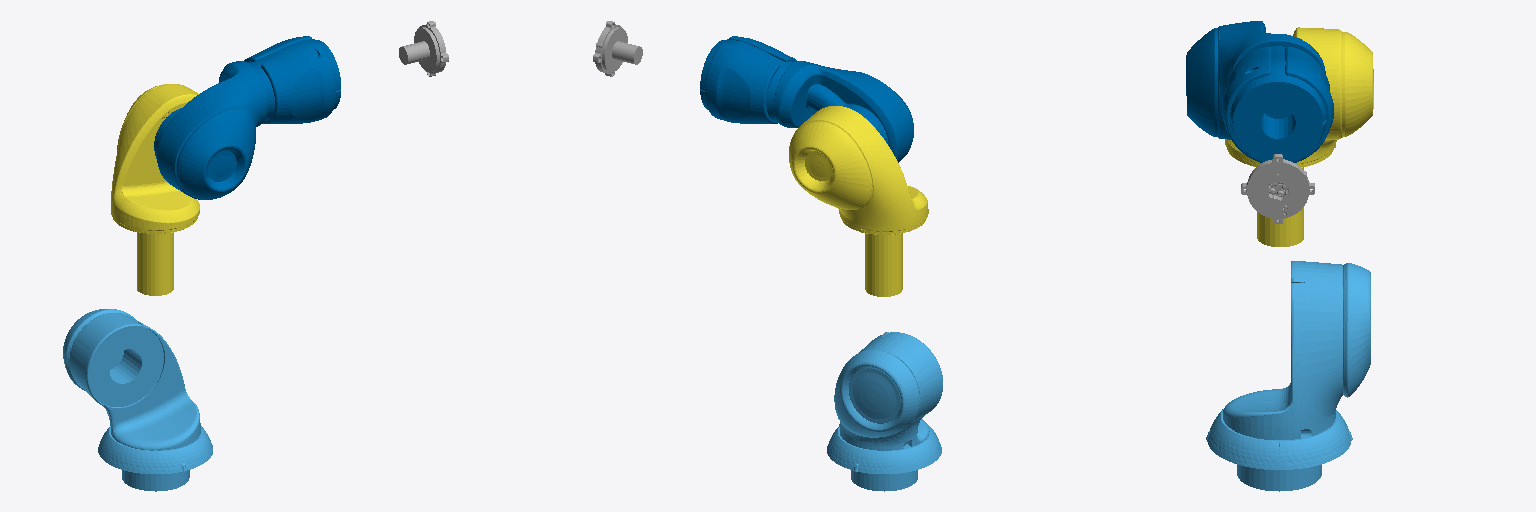
The robot description file, URDF, robot "IRB14050_SAYuMi_-_rev00":
<?xml version="1.0" ?>
<robot name="IRB14050_SAYuMi_-_rev00">

<link name="base_link">
  <inertial>
    <origin xyz="0.0067341529602538705 -4.242075529018596e-06 0.09331995585045105" rpy="0 0 0"/>
    <mass value="32.22380951244625"/>
    <inertia ixx="0.151725" iyy="0.164755" izz="0.108527" ixy="2.1e-05" iyz="-4e-06" ixz="0.00565"/>
  </inertial>
  <visual>
    <origin xyz="0 0 0" rpy="0 0 0"/>
    <geometry>
      <mesh filename="package://IRB14050_SAYuMi_-_rev00_description/meshes/base_link.stl" scale="0.001 0.001 0.001"/>
    </geometry>
    <material name="silver"/>
  </visual>
  <collision>
    <origin xyz="0 0 0" rpy="0 0 0"/>
    <geometry>
      <mesh filename="package://IRB14050_SAYuMi_-_rev00_description/meshes/base_link.stl" scale="0.001 0.001 0.001"/>
    </geometry>
  </collision>
</link>

<link name="Link1_R_1">
  <inertial>
    <origin xyz="-0.010302908951592258 0.02260577276044838 0.08311471108287838" rpy="0 0 0"/>
    <mass value="7.562885567589252"/>
    <inertia ixx="0.024135" iyy="0.023842" izz="0.013038" ixy="0.001983" iyz="-0.00674" ixz="0.004166"/>
  </inertial>
  <visual>
    <origin xyz="-0.0 0.0 -0.173832" rpy="0 0 0"/>
    <geometry>
      <mesh filename="package://IRB14050_SAYuMi_-_rev00_description/meshes/Link1_R_1.stl" scale="0.001 0.001 0.001"/>
    </geometry>
    <material name="silver"/>
  </visual>
  <collision>
    <origin xyz="-0.0 0.0 -0.173832" rpy="0 0 0"/>
    <geometry>
      <mesh filename="package://IRB14050_SAYuMi_-_rev00_description/meshes/Link1_R_1.stl" scale="0.001 0.001 0.001"/>
    </geometry>
  </collision>
</link>

<link name="Link2_R_1">
  <inertial>
    <origin xyz="0.0178623453666928 -0.025608675859911195 0.06427941959136324" rpy="0 0 0"/>
    <mass value="11.070792495652707"/>
    <inertia ixx="0.055419" iyy="0.054878" izz="0.017919" ixy="-0.001753" iyz="-0.009074" ixz="-0.008688"/>
  </inertial>
  <visual>
    <origin xyz="0.03 -0.012 -0.305832" rpy="0 0 0"/>
    <geometry>
      <mesh filename="package://IRB14050_SAYuMi_-_rev00_description/meshes/Link2_R_1.stl" scale="0.001 0.001 0.001"/>
    </geometry>
    <material name="silver"/>
  </visual>
  <collision>
    <origin xyz="0.03 -0.012 -0.305832" rpy="0 0 0"/>
    <geometry>
      <mesh filename="package://IRB14050_SAYuMi_-_rev00_description/meshes/Link2_R_1.stl" scale="0.001 0.001 0.001"/>
    </geometry>
  </collision>
</link>

<link name="Link3_R_1">
  <inertial>
    <origin xyz="0.01920843697040592 0.025172796851887516 0.04362520410506415" rpy="0 0 0"/>
    <mass value="6.048580949750527"/>
    <inertia ixx="0.017488" iyy="0.019009" izz="0.009359" ixy="-0.001939" iyz="-0.004407" ixz="-0.004228"/>
  </inertial>
  <visual>
    <origin xyz="-0.0 -0.001 -0.478662" rpy="0 0 0"/>
    <geometry>
      <mesh filename="package://IRB14050_SAYuMi_-_rev00_description/meshes/Link3_R_1.stl" scale="0.001 0.001 0.001"/>
    </geometry>
    <material name="silver"/>
  </visual>
  <collision>
    <origin xyz="-0.0 -0.001 -0.478662" rpy="0 0 0"/>
    <geometry>
      <mesh filename="package://IRB14050_SAYuMi_-_rev00_description/meshes/Link3_R_1.stl" scale="0.001 0.001 0.001"/>
    </geometry>
  </collision>
</link>

<link name="Link4_R_1">
  <inertial>
    <origin xyz="0.05593149139157671 -0.02868366102631033 0.02261704759774419" rpy="0 0 0"/>
    <mass value="9.26921022899374"/>
    <inertia ixx="0.014525" iyy="0.041104" izz="0.04023" ixy="-0.007292" iyz="-0.002279" ixz="-0.009077"/>
  </inertial>
  <visual>
    <origin xyz="-0.0405 -0.012 -0.557758" rpy="0 0 0"/>
    <geometry>
      <mesh filename="package://IRB14050_SAYuMi_-_rev00_description/meshes/Link4_R_1.stl" scale="0.001 0.001 0.001"/>
    </geometry>
    <material name="silver"/>
  </visual>
  <collision>
    <origin xyz="-0.0405 -0.012 -0.557758" rpy="0 0 0"/>
    <geometry>
      <mesh filename="package://IRB14050_SAYuMi_-_rev00_description/meshes/Link4_R_1.stl" scale="0.001 0.001 0.001"/>
    </geometry>
  </collision>
</link>

<link name="Link5_R_1">
  <inertial>
    <origin xyz="0.04580787520295618 0.027826320424547954 -0.007443616251315288" rpy="0 0 0"/>
    <mass value="2.6959499165850227"/>
    <inertia ixx="0.002867" iyy="0.005667" izz="0.00619" ixy="-0.001992" iyz="0.000395" ixz="0.001038"/>
  </inertial>
  <visual>
    <origin xyz="-0.205149 0.001 -0.598091" rpy="0 0 0"/>
    <geometry>
      <mesh filename="package://IRB14050_SAYuMi_-_rev00_description/meshes/Link5_R_1.stl" scale="0.001 0.001 0.001"/>
    </geometry>
    <material name="silver"/>
  </visual>
  <collision>
    <origin xyz="-0.205149 0.001 -0.598091" rpy="0 0 0"/>
    <geometry>
      <mesh filename="package://IRB14050_SAYuMi_-_rev00_description/meshes/Link5_R_1.stl" scale="0.001 0.001 0.001"/>
    </geometry>
  </collision>
</link>

<link name="Link6_R_1">
  <inertial>
    <origin xyz="-0.01243115833760261 -0.03641924839255436 0.011234978096234638" rpy="0 0 0"/>
    <mass value="3.6915533716806794"/>
    <inertia ixx="0.003891" iyy="0.004078" izz="0.003737" ixy="0.000141" iyz="-0.000212" ixz="6.5e-05"/>
  </inertial>
  <visual>
    <origin xyz="-0.305514 -0.026012 -0.571002" rpy="0 0 0"/>
    <geometry>
      <mesh filename="package://IRB14050_SAYuMi_-_rev00_description/meshes/Link6_R_1.stl" scale="0.001 0.001 0.001"/>
    </geometry>
    <material name="silver"/>
  </visual>
  <collision>
    <origin xyz="-0.305514 -0.026012 -0.571002" rpy="0 0 0"/>
    <geometry>
      <mesh filename="package://IRB14050_SAYuMi_-_rev00_description/meshes/Link6_R_1.stl" scale="0.001 0.001 0.001"/>
    </geometry>
  </collision>
</link>

<link name="Link7_R_1">
  <inertial>
    <origin xyz="0.0003534835414897852 1.06031163510992e-05 3.828102717007287e-05" rpy="0 0 0"/>
    <mass value="0.240688664570473"/>
    <inertia ixx="6.8e-05" iyy="5.7e-05" izz="5.7e-05" ixy="-0.0" iyz="-0.0" ixz="-0.0"/>
  </inertial>
  <visual>
    <origin xyz="-0.33035 0.001 -0.598141" rpy="0 0 0"/>
    <geometry>
      <mesh filename="package://IRB14050_SAYuMi_-_rev00_description/meshes/Link7_R_1.stl" scale="0.001 0.001 0.001"/>
    </geometry>
    <material name="silver"/>
  </visual>
  <collision>
    <origin xyz="-0.33035 0.001 -0.598141" rpy="0 0 0"/>
    <geometry>
      <mesh filename="package://IRB14050_SAYuMi_-_rev00_description/meshes/Link7_R_1.stl" scale="0.001 0.001 0.001"/>
    </geometry>
  </collision>
</link>

<joint name="j1" type="continuous">
  <origin xyz="0.0 0.0 0.173832" rpy="0 0 0"/>
  <parent link="base_link"/>
  <child link="Link1_R_1"/>
  <axis xyz="0.0 0.0 -1.0"/>
</joint>

<joint name="j2" type="continuous">
  <origin xyz="-0.03 0.012 0.132" rpy="0 0 0"/>
  <parent link="Link1_R_1"/>
  <child link="Link2_R_1"/>
  <axis xyz="0.0 1.0 0.0"/>
</joint>

<joint name="j3" type="continuous">
  <origin xyz="0.03 -0.011 0.17283" rpy="0 0 0"/>
  <parent link="Link2_R_1"/>
  <child link="Link3_R_1"/>
  <axis xyz="-0.0 -0.0 1.0"/>
</joint>

<joint name="j4" type="continuous">
  <origin xyz="0.0405 0.011 0.079096" rpy="0 0 0"/>
  <parent link="Link3_R_1"/>
  <child link="Link4_R_1"/>
  <axis xyz="-0.0 -1.0 -0.0"/>
</joint>

<joint name="j5" type="continuous">
  <origin xyz="0.164649 -0.013 0.040333" rpy="0 0 0"/>
  <parent link="Link4_R_1"/>
  <child link="Link5_R_1"/>
  <axis xyz="-0.999999 0.0 0.00101"/>
</joint>

<joint name="j6" type="continuous">
  <origin xyz="0.100365 0.027012 -0.027089" rpy="0 0 0"/>
  <parent link="Link5_R_1"/>
  <child link="Link6_R_1"/>
  <axis xyz="0.0 1.0 0.000441"/>
</joint>

<joint name="j7" type="continuous">
  <origin xyz="0.024836 -0.027012 0.027139" rpy="0 0 0"/>
  <parent link="Link6_R_1"/>
  <child link="Link7_R_1"/>
  <axis xyz="-0.999982 3e-06 -0.00607"/>
</joint>

</robot>

--- What the picture shows (computed from the rendered views, not written in the file) ---
Views: 3 orthographic renders of the robot side by side, from view 1: azimuth 30°, elevation 25°; view 2: azimuth 150°, elevation 25°; view 3: azimuth 270°, elevation 25°.
Robot: IRB14050_SAYuMi_-_rev00 — 8 links, 7 joints (7 continuous); root link base_link; default pose: all joints at 0.
Links seen in each view (by area): view 1: Link1_R_1, Link4_R_1, Link3_R_1, Link7_R_1; view 2: Link1_R_1, Link3_R_1, Link4_R_1, Link7_R_1; view 3: Link1_R_1, Link4_R_1, Link3_R_1, Link7_R_1.
Boxes of the visible links, <box> form: Link1_R_1: <box>63,309,212,491</box>; Link4_R_1: <box>154,36,340,199</box>; Link3_R_1: <box>111,84,199,295</box>; Link7_R_1: <box>399,21,448,76</box>; Link1_R_1: <box>827,332,942,491</box>; Link3_R_1: <box>789,106,928,296</box>; Link4_R_1: <box>700,36,913,162</box>; Link7_R_1: <box>593,21,642,76</box>; Link1_R_1: <box>1206,261,1370,491</box>; Link4_R_1: <box>1186,21,1333,162</box>; Link3_R_1: <box>1225,27,1373,246</box>; Link7_R_1: <box>1241,154,1314,223</box>.
Bounding box of the posed robot: 0.4203 × 0.1593 × 0.469 m (x, y, z).
Meshes: 8 distinct files referenced, 4 mesh visuals loaded (4 binary STL); not drawn: 4 (reference not matched to a file when rendering).
